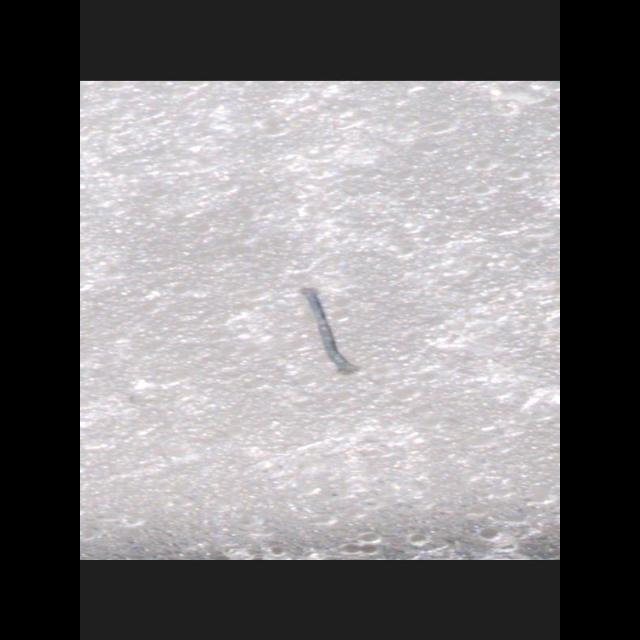Fibre: (302, 286, 362, 374)
